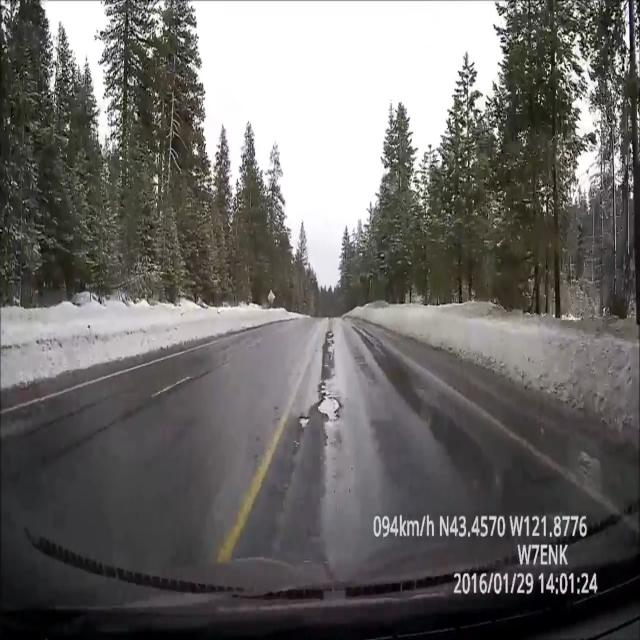Pothole: (318, 375, 344, 443)
